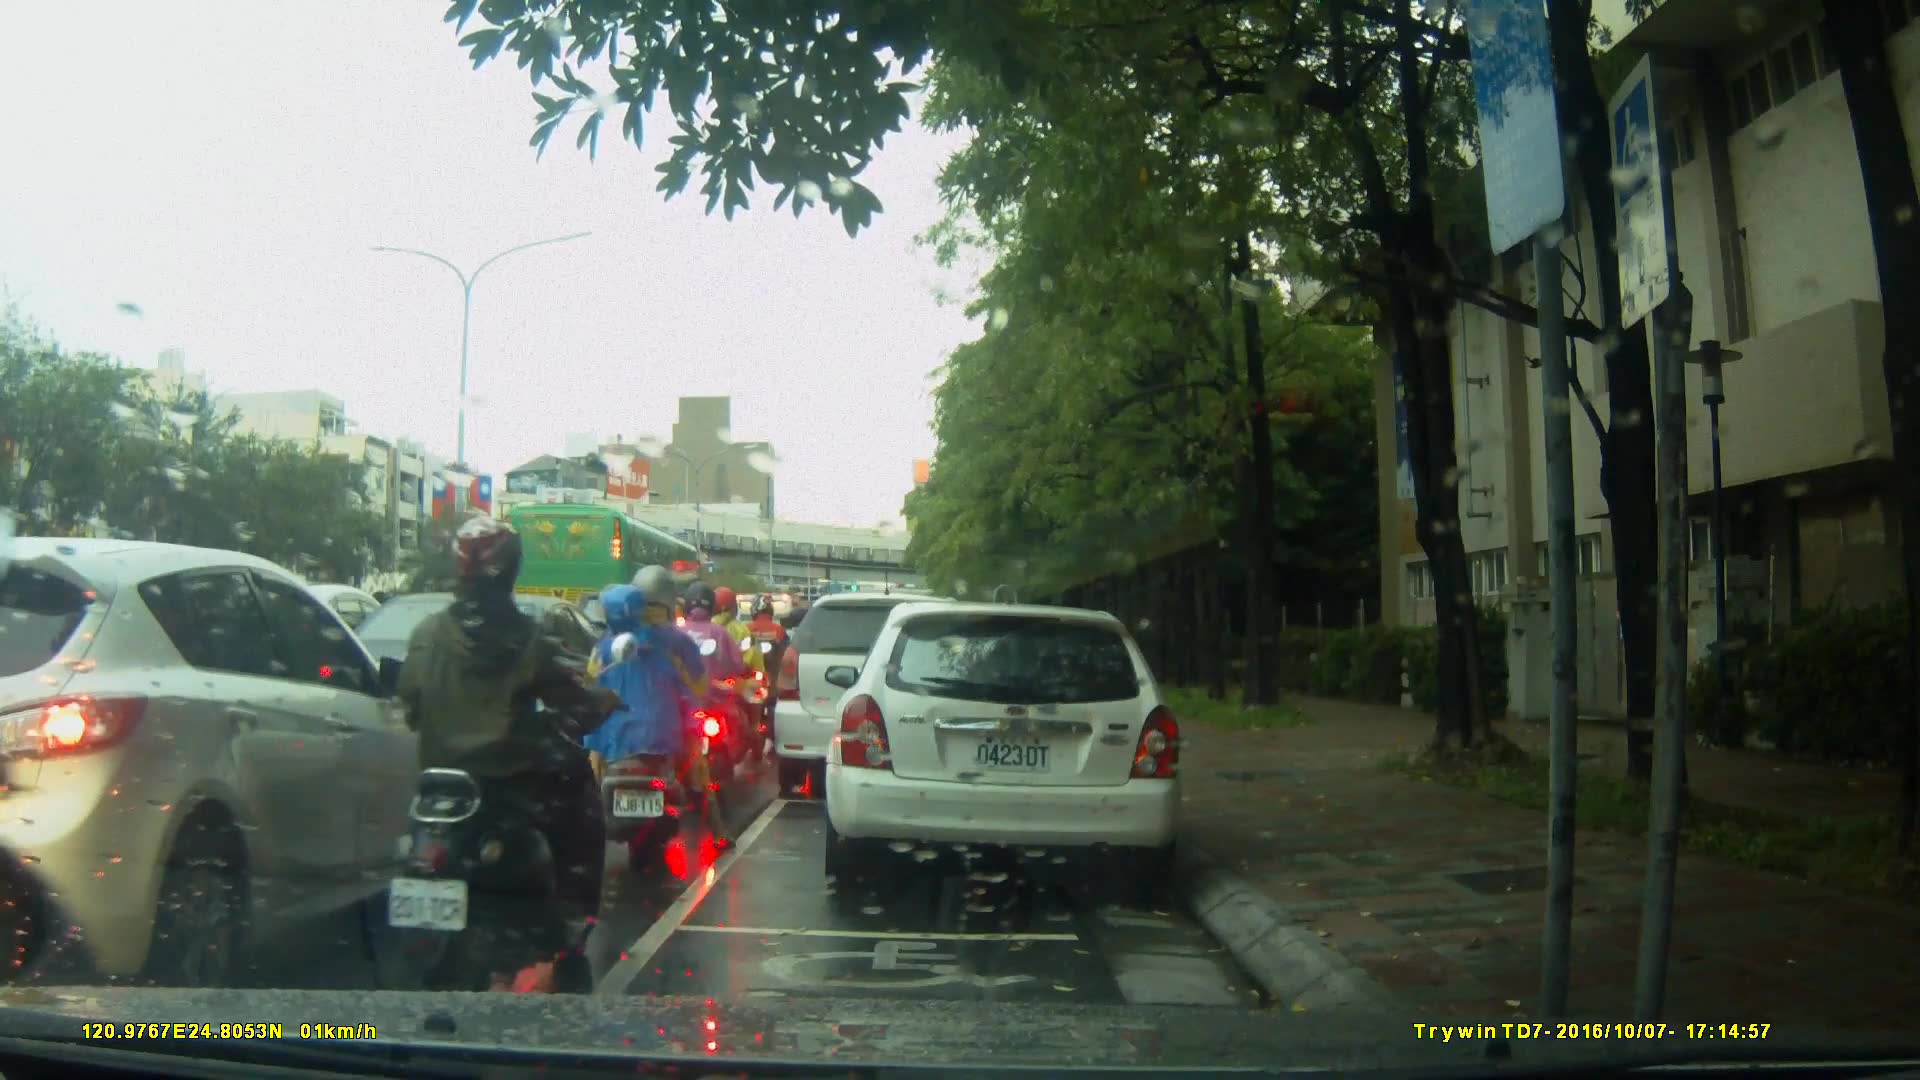rider: (362, 508, 622, 1016), (587, 566, 725, 855), (665, 585, 737, 791), (700, 587, 775, 782), (740, 592, 791, 739)
vehicle: (4, 535, 468, 988), (831, 592, 1196, 897), (313, 589, 629, 776), (770, 590, 999, 804), (501, 503, 710, 636)
